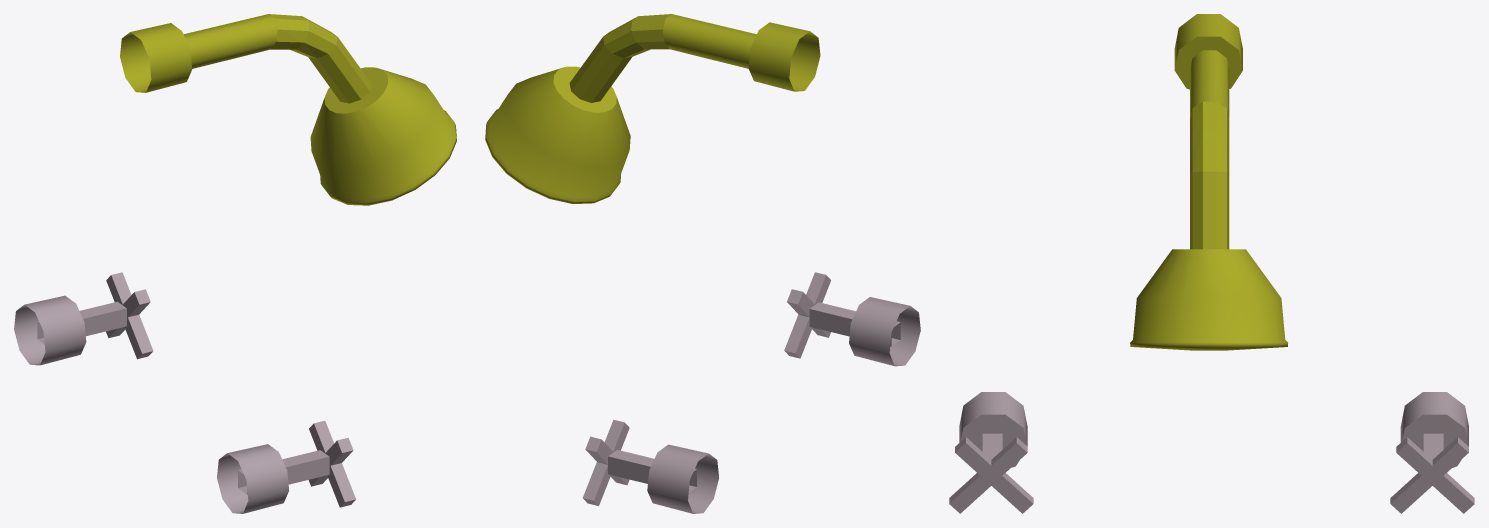
The model's file is SM_Shower_01.FBX.
3 views of the same model, side by side, from view 1: azimuth 30°, elevation 25°; view 2: azimuth 150°, elevation 25°; view 3: azimuth 270°, elevation 25° (orthographic). The views are drawn at different scales.
Parts seen in each view (by area): view 1: SM_Shower_01; view 2: SM_Shower_01; view 3: SM_Shower_01.
Part boxes in pixels (x1=…): SM_Shower_01: x1=14, y1=14, x2=456, y2=513; SM_Shower_01: x1=485, y1=14, x2=920, y2=513; SM_Shower_01: x1=949, y1=14, x2=1474, y2=513.
Bounding box in the file's own units: 33.46 × 44.64 × 41.82.
